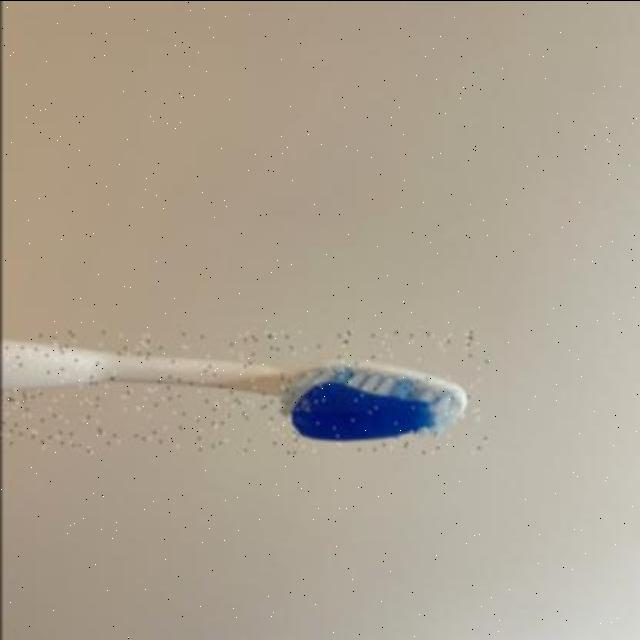toothbrush: (0, 332, 486, 452)
